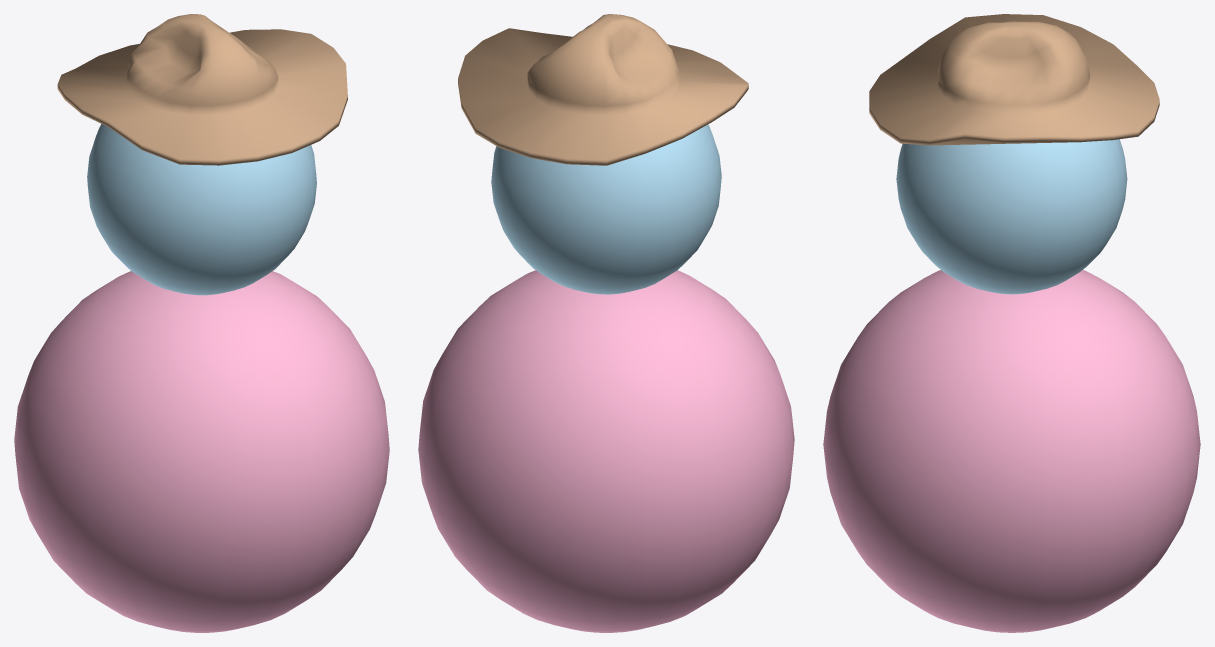
File: Gosn9.fbx
3 views of the same model, side by side, from view 1: azimuth 30°, elevation 25°; view 2: azimuth 150°, elevation 25°; view 3: azimuth 270°, elevation 25° (orthographic).
Visible parts, largest first — view 1: cika_6_1, cika_6_1.002, cika_6_1.001; view 2: cika_6_1, cika_6_1.002, cika_6_1.001; view 3: cika_6_1, cika_6_1.002, cika_6_1.001.
Boxes of the visible parts, x1,y1,x2,y2 form: cika_6_1: (14, 271, 389, 632); cika_6_1.002: (57, 14, 347, 165); cika_6_1.001: (87, 124, 316, 295); cika_6_1: (418, 270, 794, 632); cika_6_1.002: (458, 14, 748, 165); cika_6_1.001: (491, 124, 721, 294); cika_6_1: (823, 270, 1200, 632); cika_6_1.002: (869, 14, 1159, 145); cika_6_1.001: (896, 139, 1127, 294).
Size of the model in its own units: 5301 by 9176 by 5301.
